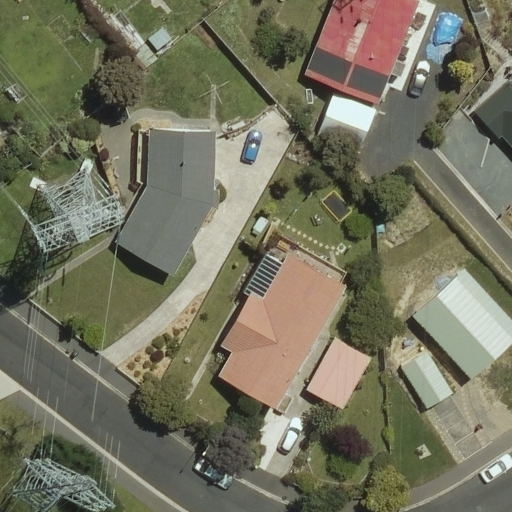TT: (24, 162, 124, 262), (1, 446, 119, 512)
